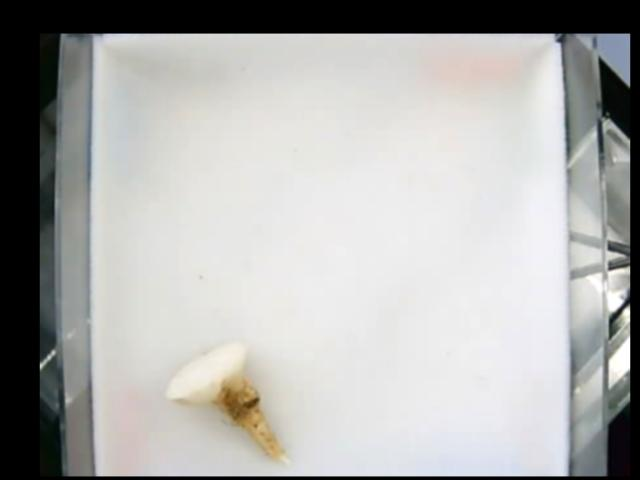Mooli: (167, 338, 291, 465)
